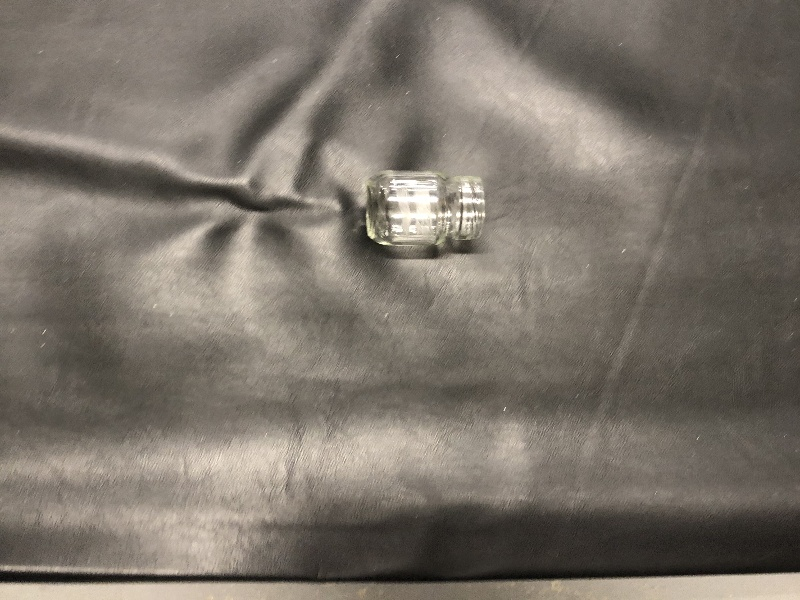glass: (353, 161, 509, 262)
